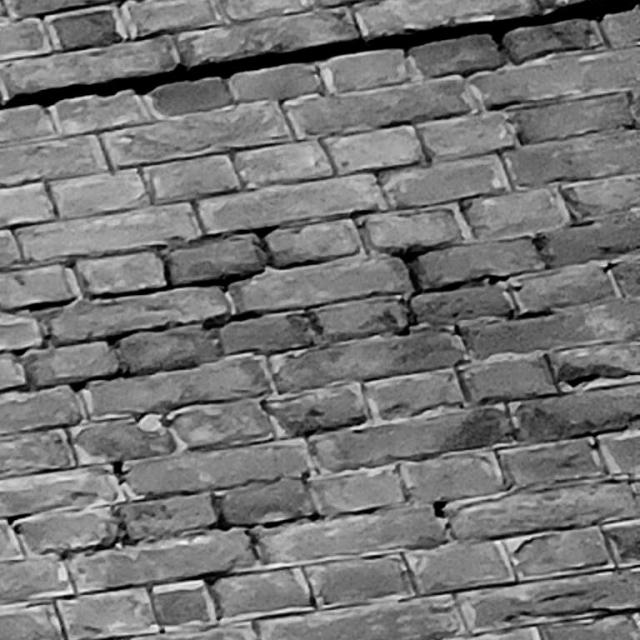crack: (1, 1, 640, 110)
